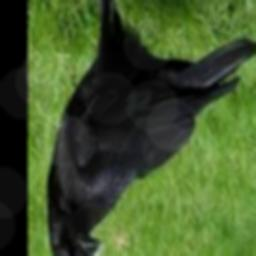Crow: (46, 0, 256, 256)
